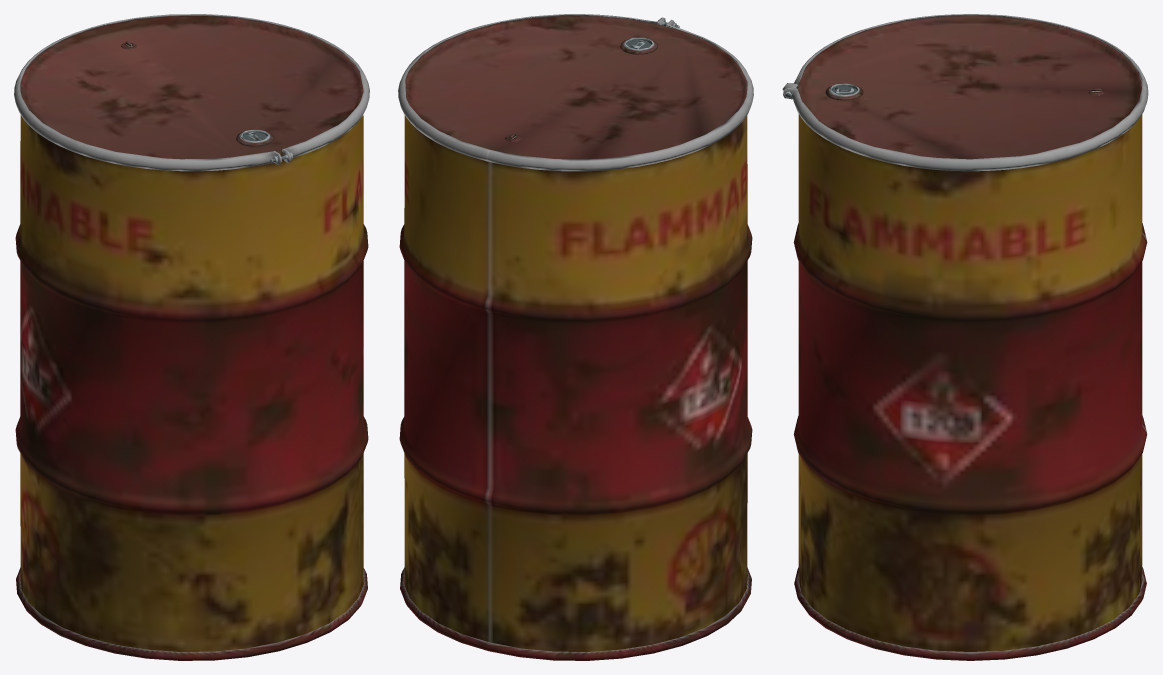
Rendered from p_drum.glb.
3 renders of one model, left to right at view 1: azimuth 30°, elevation 25°; view 2: azimuth 150°, elevation 25°; view 3: azimuth 270°, elevation 25°, orthographic.
Parts seen in each view (by area): view 1: g; view 2: g; view 3: g.
Boxes of the visible parts, bbox=[...] form: g: bbox=[14, 14, 369, 660]; g: bbox=[398, 14, 753, 660]; g: bbox=[782, 14, 1148, 660].
Bounding box in the file's own units: 0.5699 × 0.8875 × 0.5862.
1 material, 1 textured.
